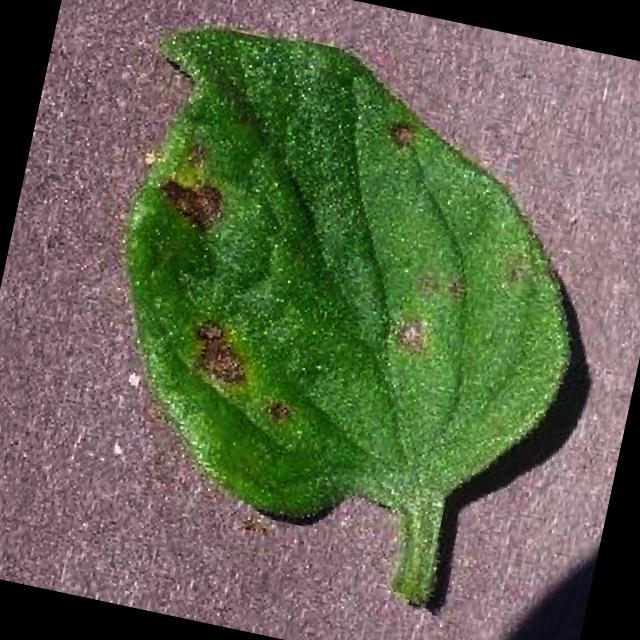Tomato Septoria spot leaf: (75, 9, 624, 574)
